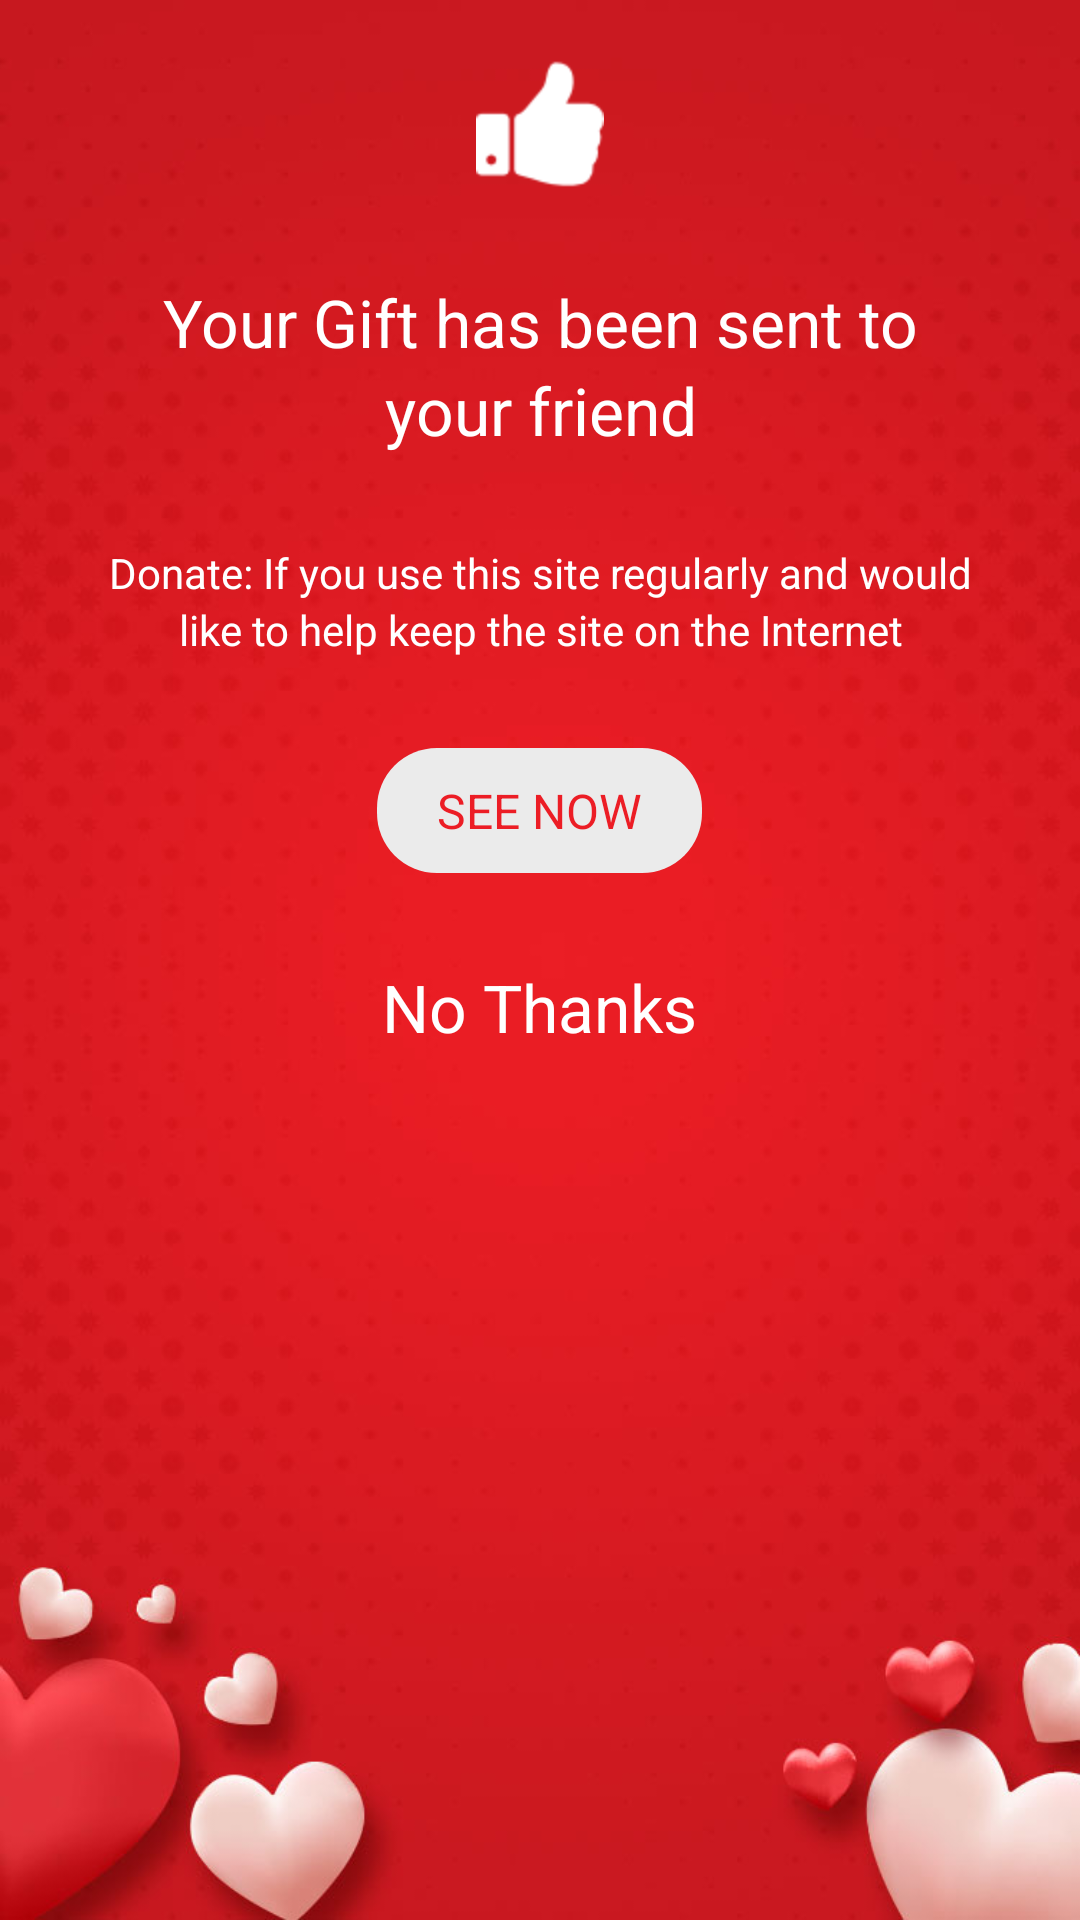

Icon click points for this 1080 x 1920 phone screenshot, format point (x, y):
thumbs up: point (540, 124)
